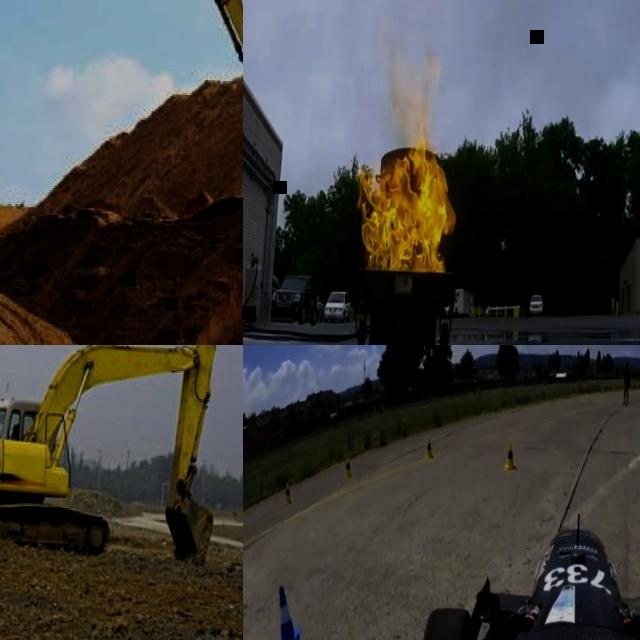NO-Safety Vest: (624, 370, 630, 386)
Person: (621, 362, 631, 406), (11, 426, 20, 442)
Safety Cone: (274, 580, 301, 640), (505, 443, 518, 478), (283, 480, 297, 511), (423, 438, 434, 466), (343, 455, 353, 481)
machinery: (0, 345, 224, 565)
vehicle: (379, 502, 640, 640), (271, 272, 319, 325), (324, 289, 352, 323), (528, 293, 546, 315), (443, 299, 458, 317), (272, 274, 280, 299), (316, 297, 324, 322)
